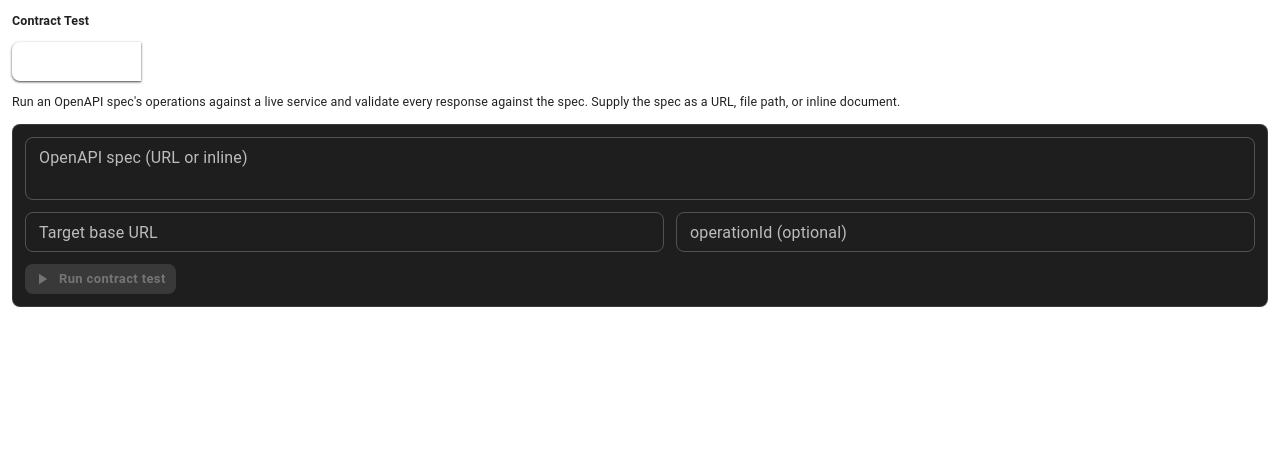
ContractTestPanel — Validate Recorded Traffic mode › validates recorded traffic and renders a per-request request/response error table
This screenshot has width=1280, height=468.
Click the button "Validate Recorded Traffic": point(226, 62) [140,42,313,81]
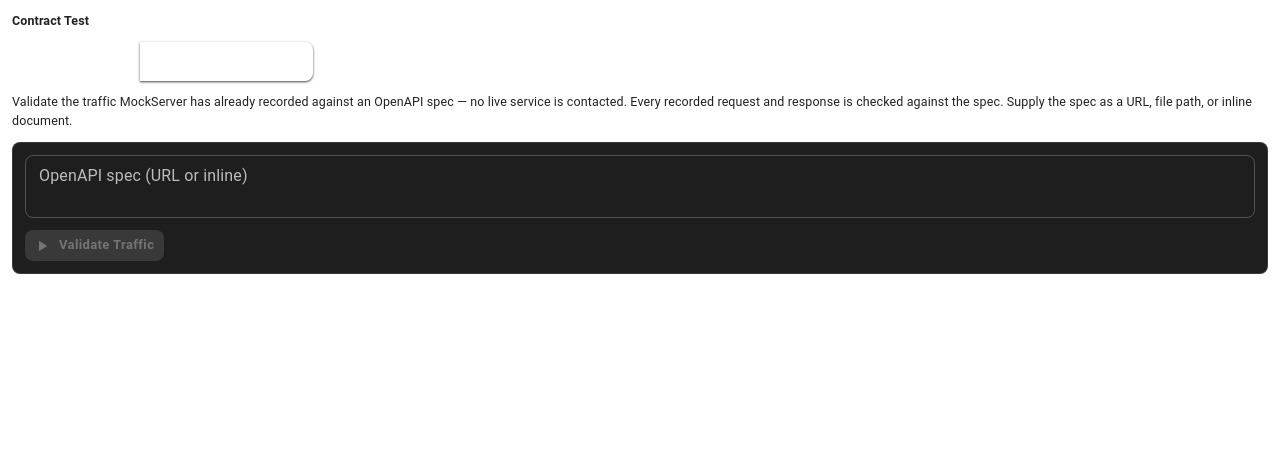
In the text box labelled "OpenAPI spec (URL or inline)": point(640, 187) [39,164,1241,210], type "https://example.com/openapi.json"
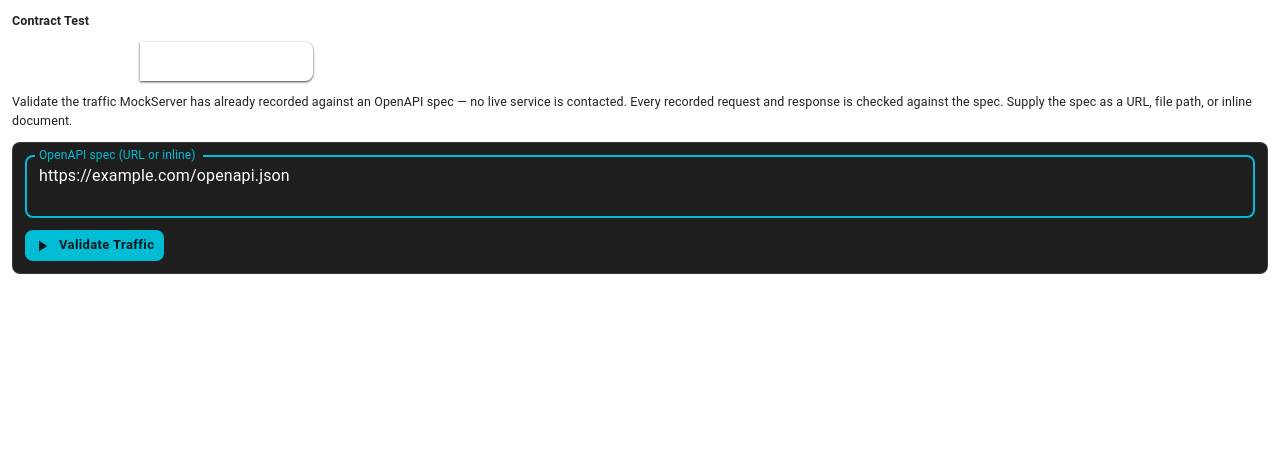
Click the button "Validate Traffic": point(95, 246) [25,230,164,261]
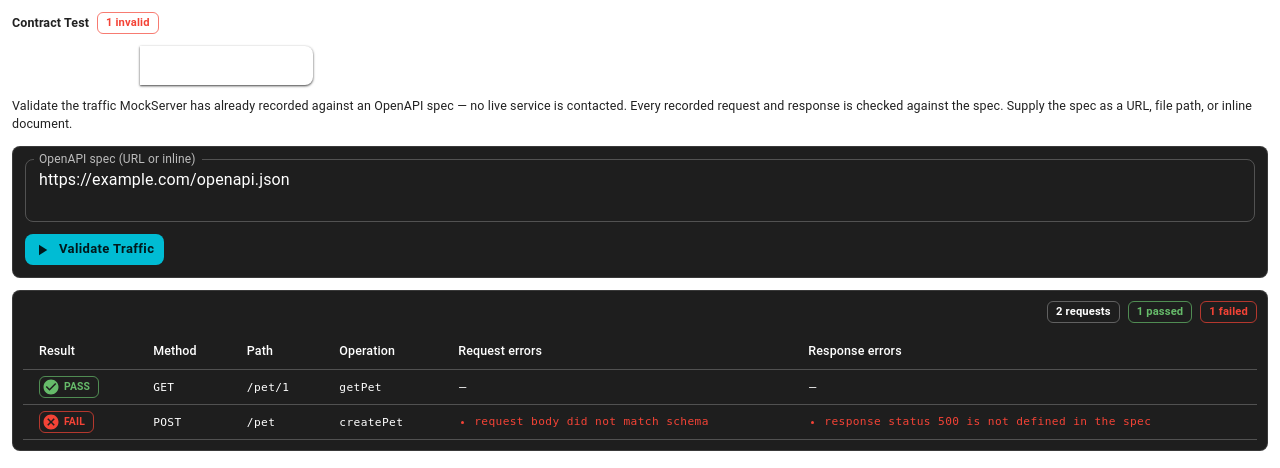
expect the text "createPet" is shown: met, box [339,416,403,429]
expect the text "2 requests" is shown: met, box [1056,304,1111,318]
expect the text "1 passed" is shown: met, box [1137,304,1183,318]
